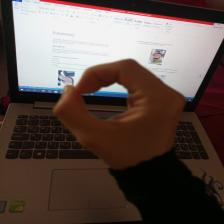five: (42, 50, 204, 181)
